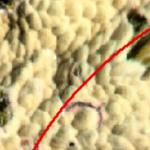alive: (4, 6, 149, 147)
